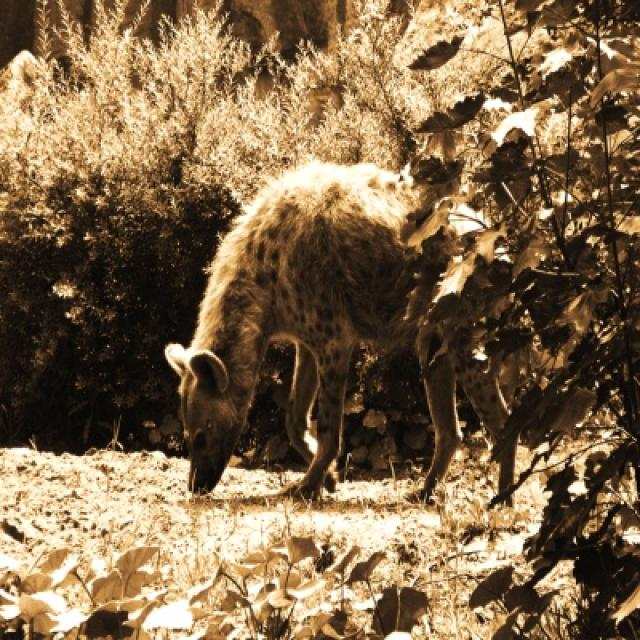hyena: (159, 162, 518, 507)
